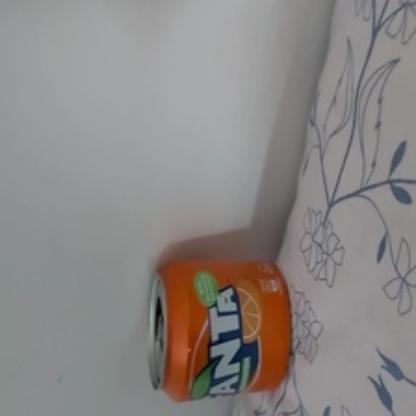Can: (149, 255, 293, 403)
